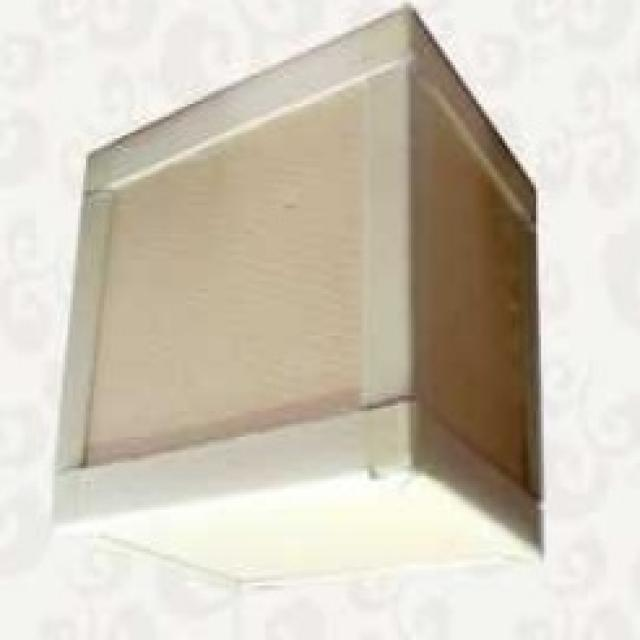box: (25, 1, 578, 610)
